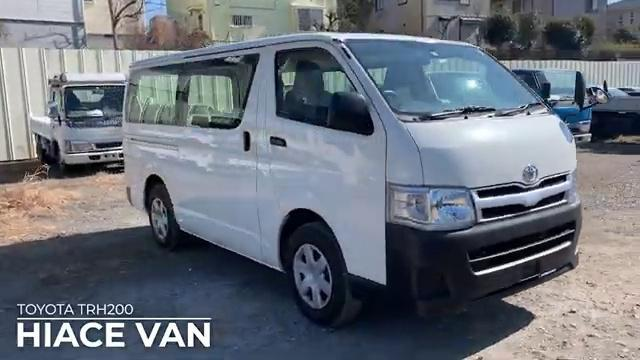Van: (118, 31, 584, 318)
